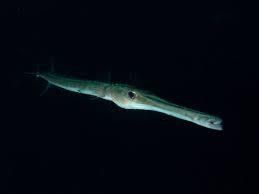Fistularia commersonii: (26, 68, 224, 132)
